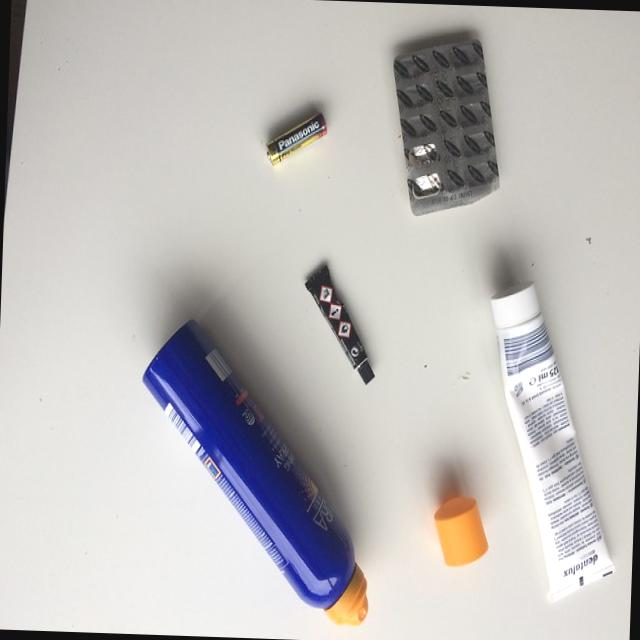Recycle: (132, 316, 379, 626)
Trash: (478, 278, 626, 603), (386, 36, 507, 219), (300, 262, 380, 386), (428, 496, 489, 569), (264, 110, 334, 168)
